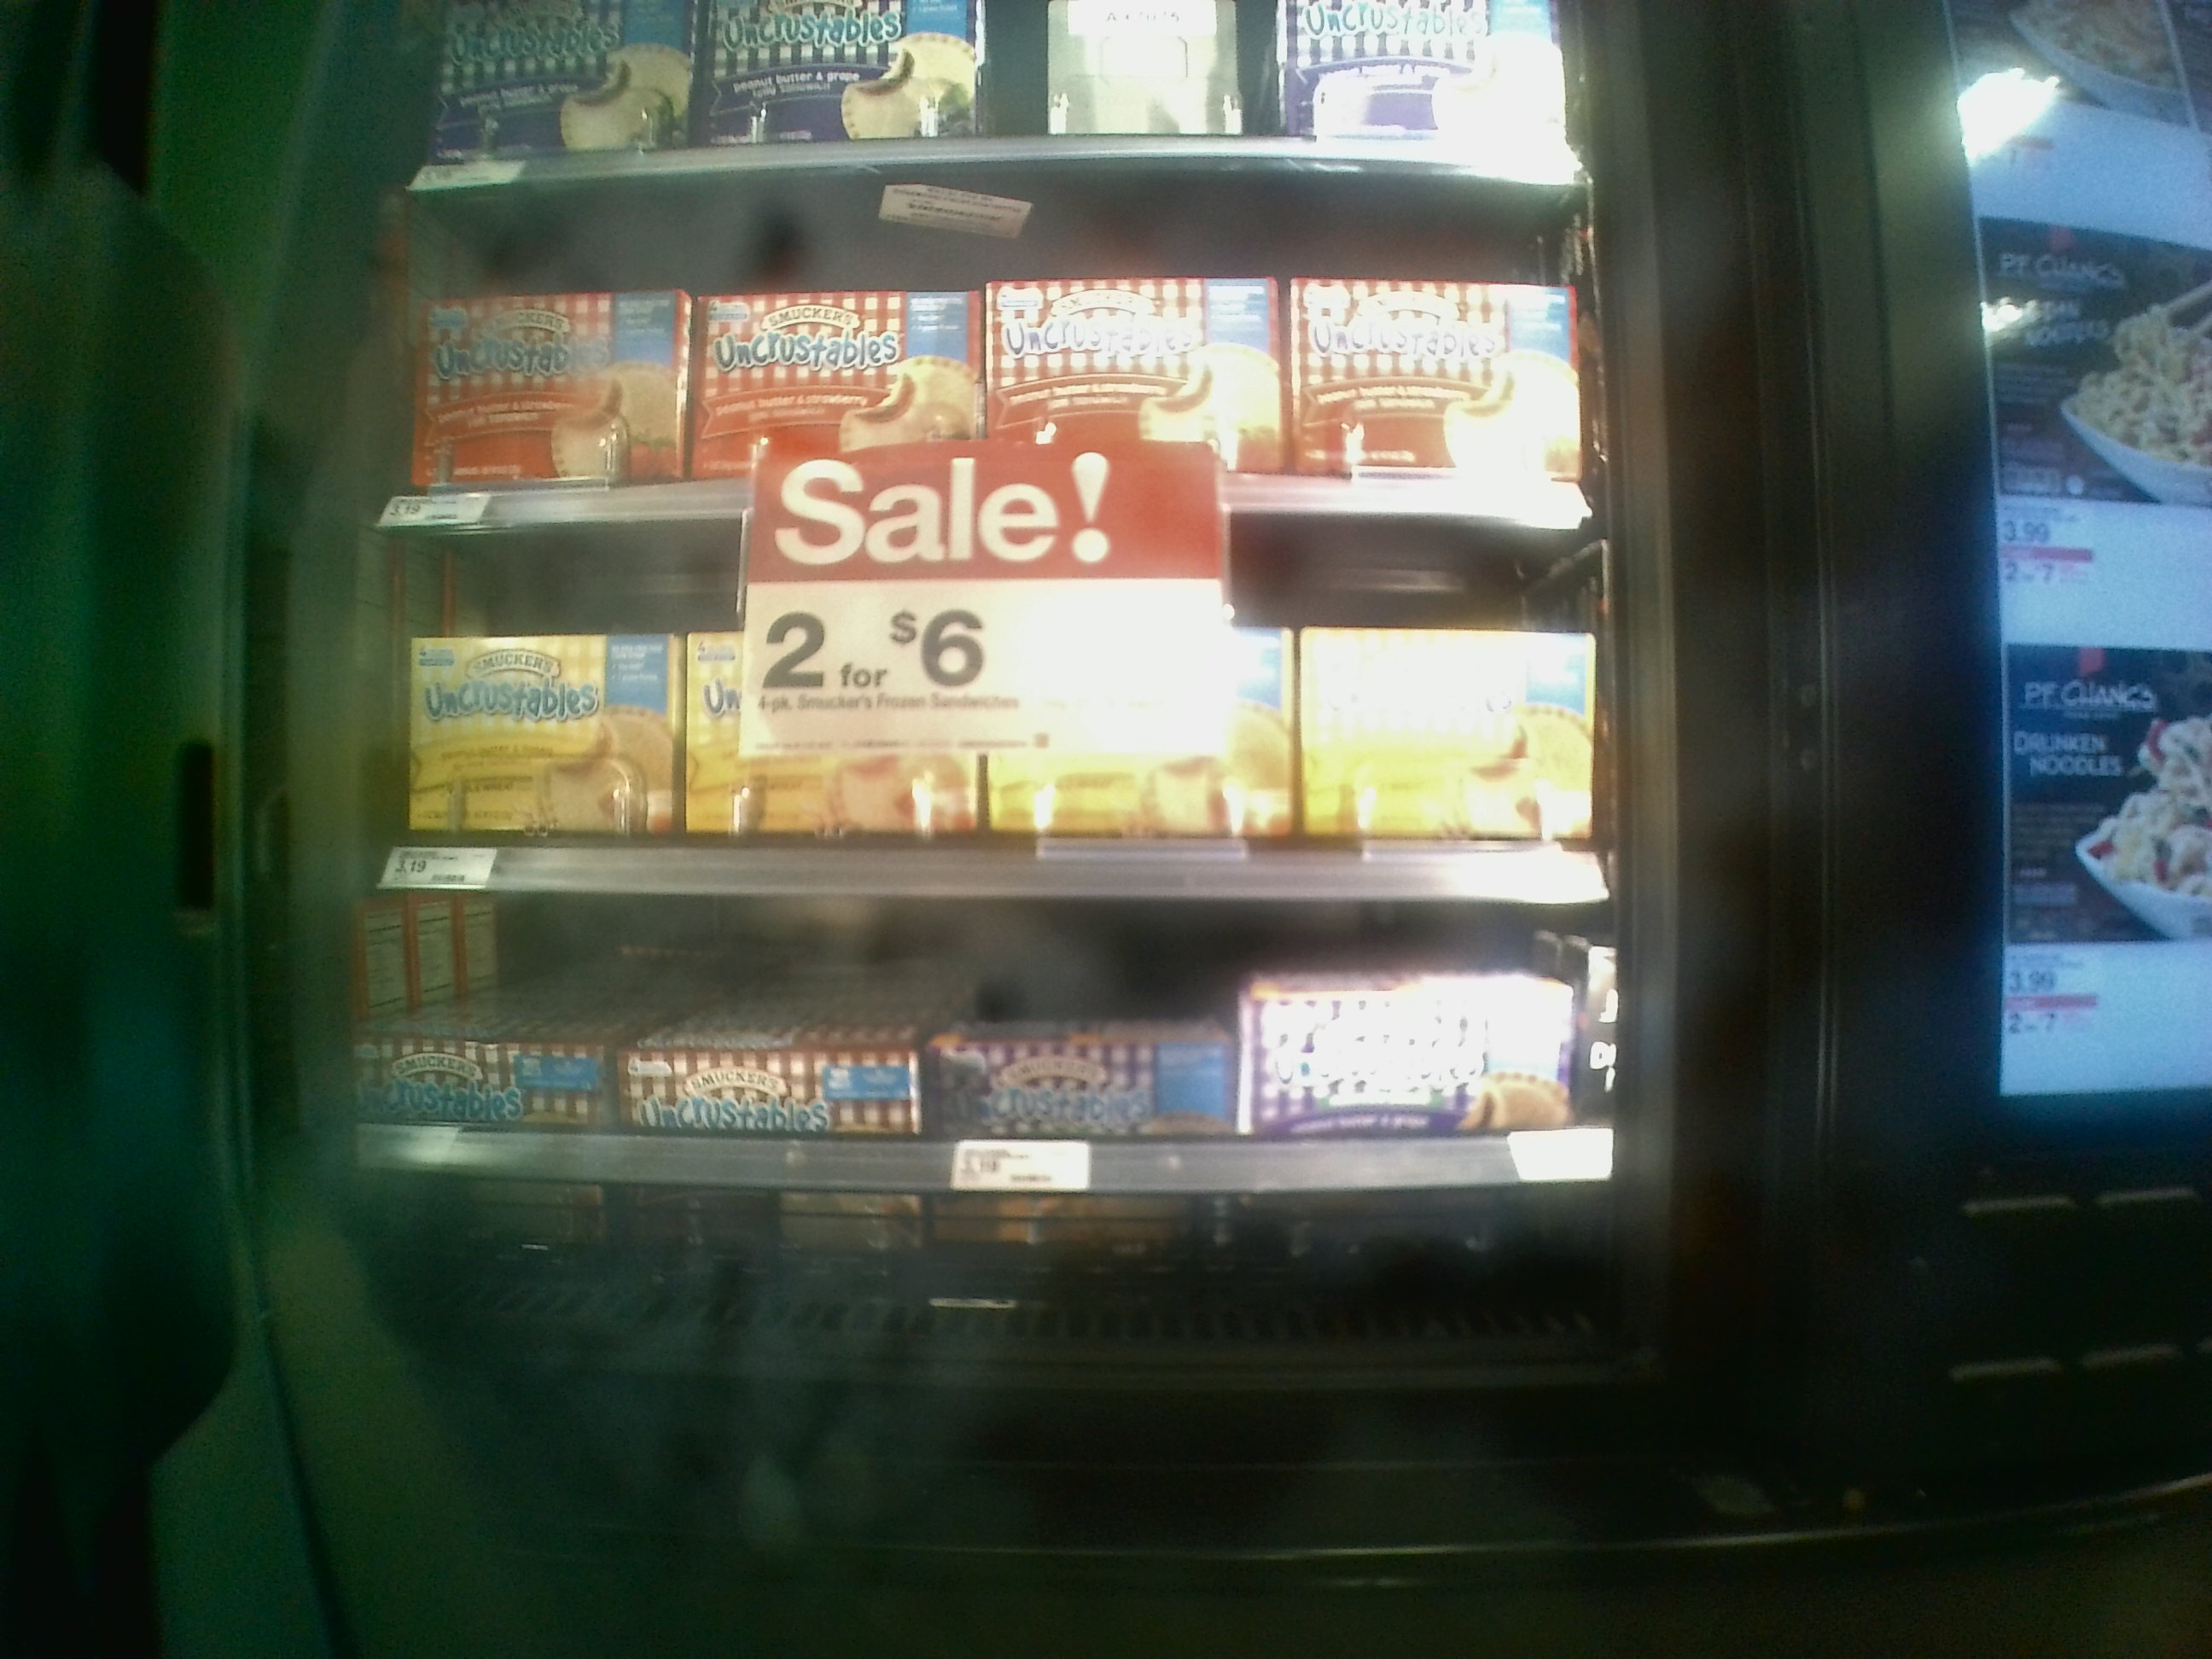shelf: (359, 903, 1639, 1337), (380, 540, 1604, 915), (374, 186, 1599, 533)
